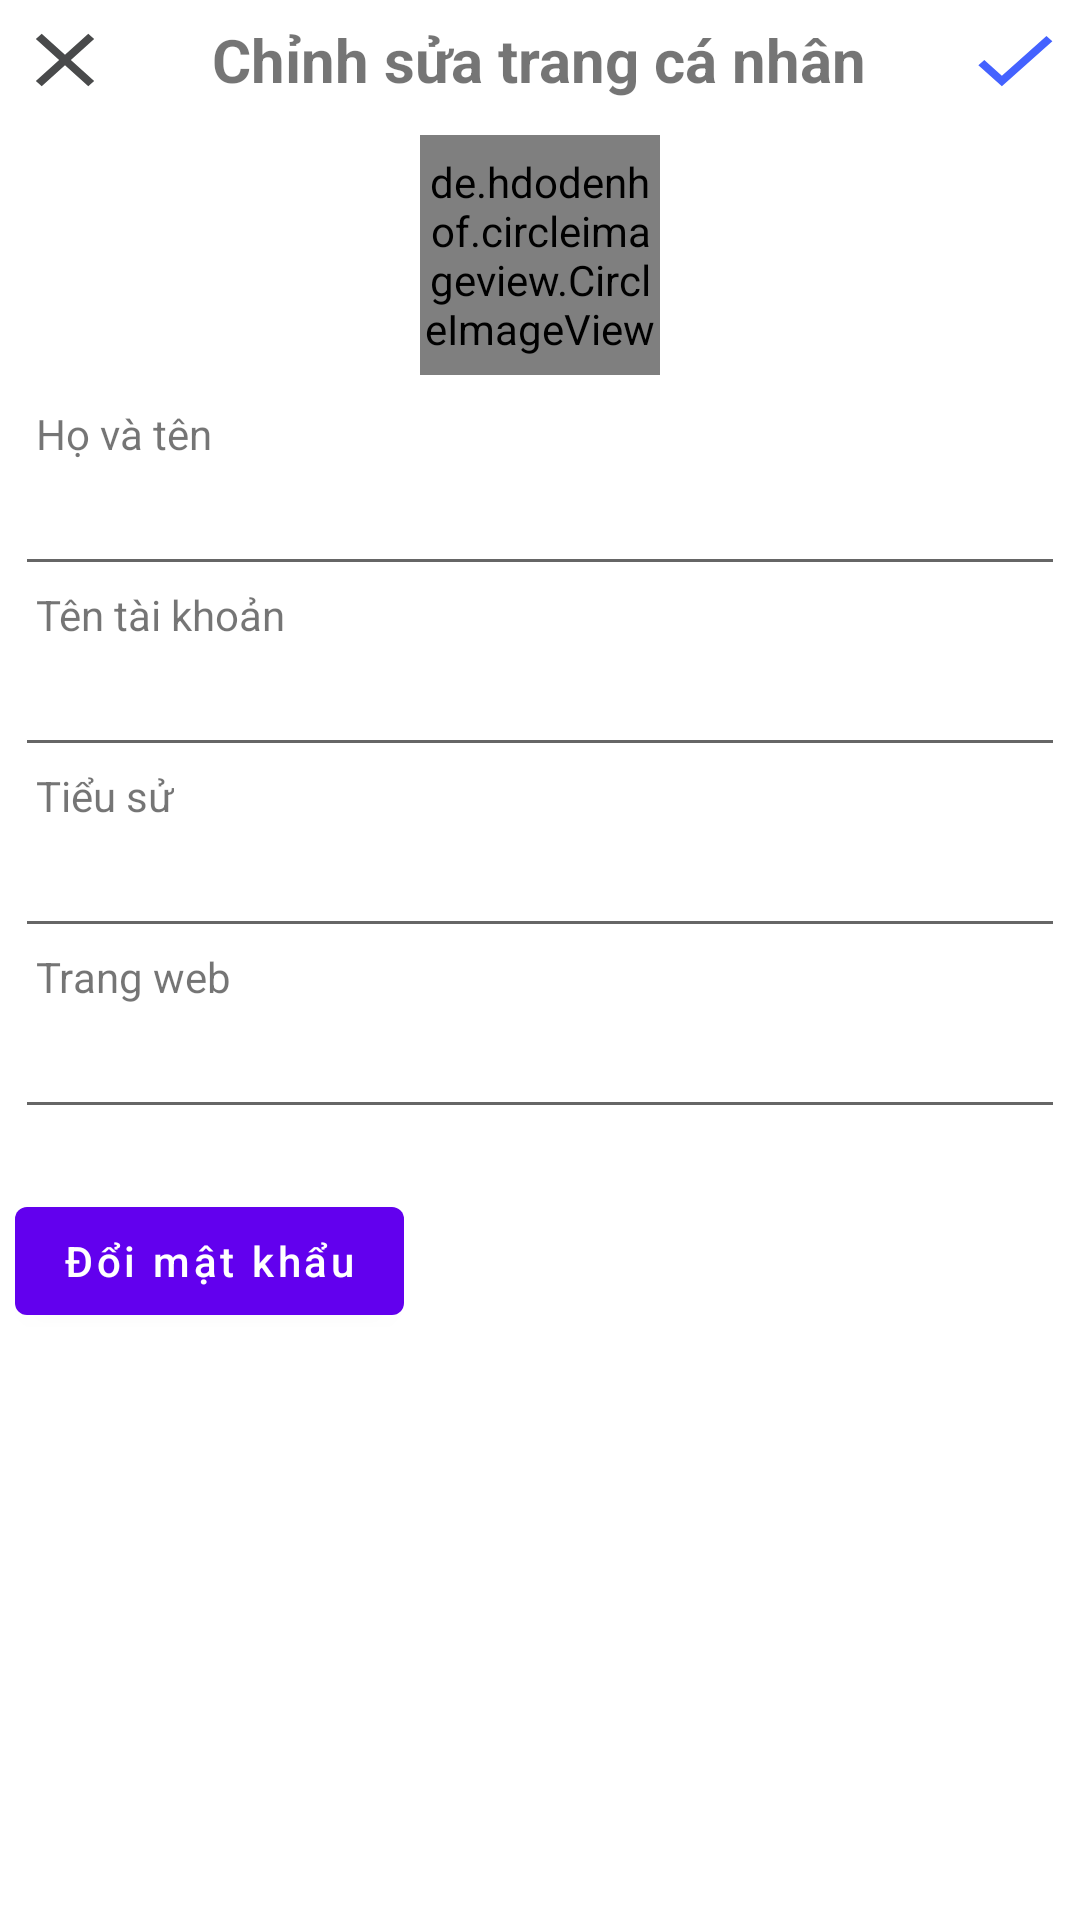

Icons on this 1080w x 1920h Android screen, each with the point to tap as point (x, y):
check: point (1015, 61)
close: point (65, 60)
